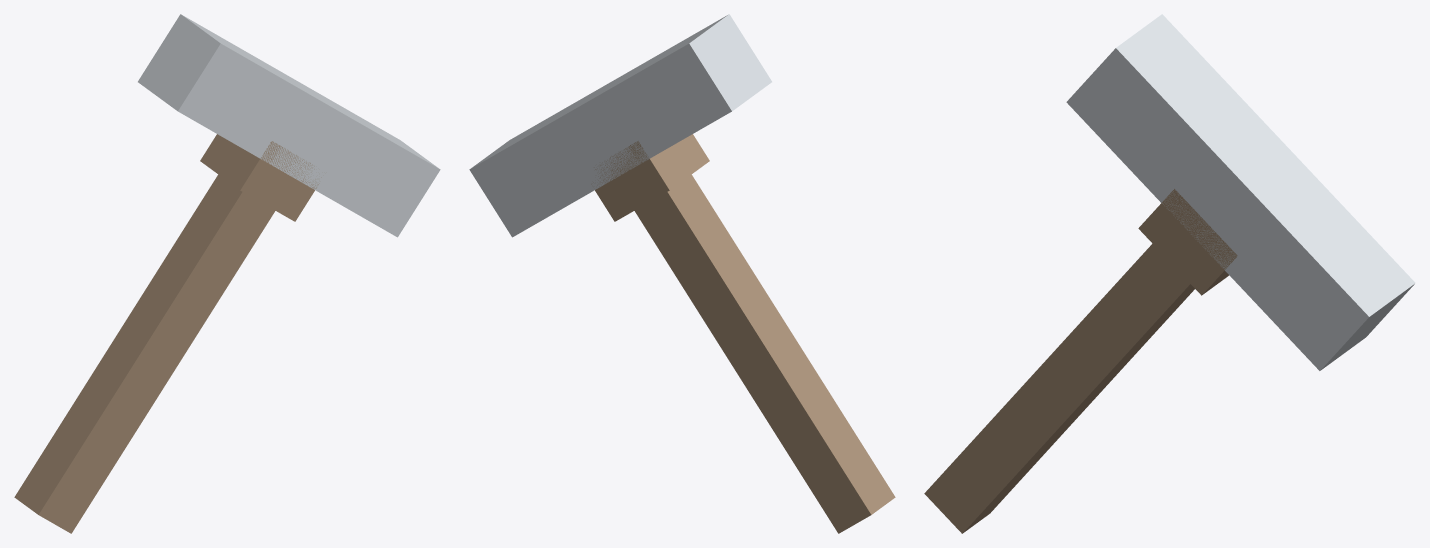
The model's file is pickaxe.gltf.
3 views of the same model, side by side, from view 1: azimuth 30°, elevation 25°; view 2: azimuth 150°, elevation 25°; view 3: azimuth 330°, elevation 25° (orthographic). The views are drawn at different scales.
Parts seen in each view (by area): view 1: pickaxe; view 2: pickaxe; view 3: pickaxe.
Part boxes in pixels (x1,y1,x2,y2): pickaxe: [14, 14, 440, 533]; pickaxe: [469, 14, 895, 533]; pickaxe: [924, 14, 1415, 533].
Size of the model in its own units: 0.8475 by 0.9492 by 0.15.
